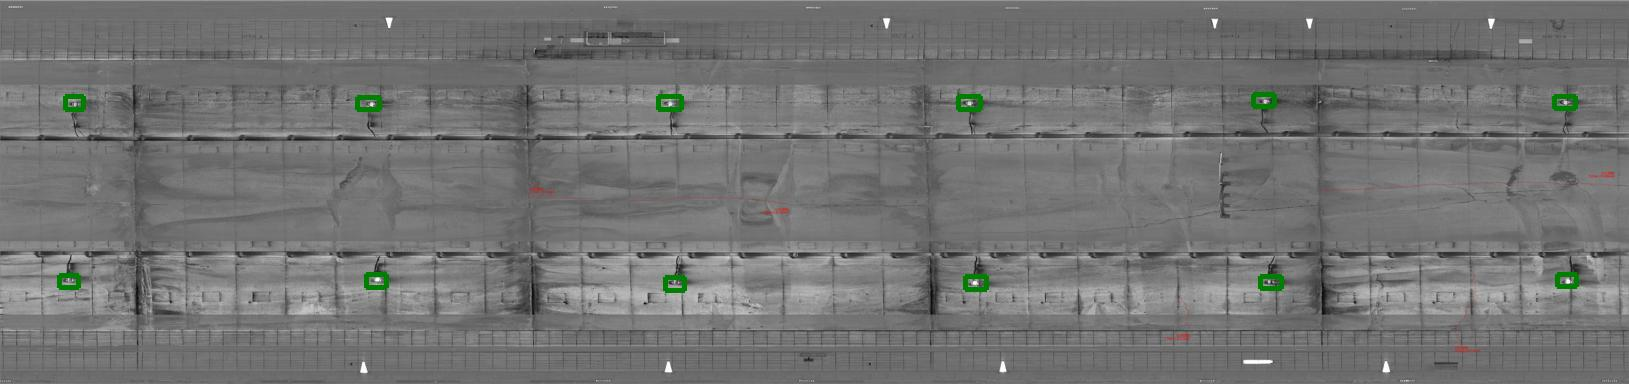light: (57, 272, 79, 287), (667, 275, 689, 289), (659, 95, 680, 109), (1554, 97, 1576, 108), (1257, 92, 1274, 107), (964, 276, 983, 289), (1559, 276, 1578, 289), (1261, 275, 1279, 287), (360, 98, 379, 109), (369, 273, 384, 286), (959, 95, 976, 107), (66, 97, 81, 109)
